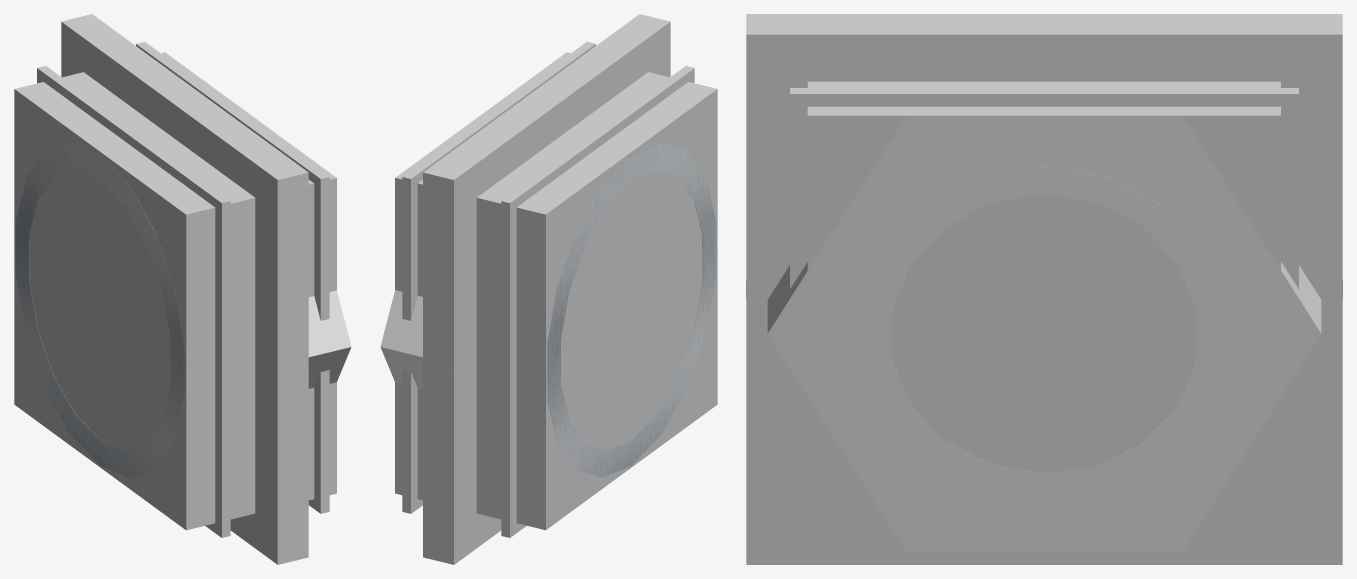
Rendered from rad1_zagl_1s2.FBX.
3 renders of one model, left to right at view 1: azimuth 30°, elevation 25°; view 2: azimuth 150°, elevation 25°; view 3: azimuth 270°, elevation 25°, orthographic. The views are drawn at different scales.
Visible parts, largest first — view 1: rad1_zagl_1/2_COL003, rad1_zagl_1/2, size_1_L_est_003, size_1_R_est_002; view 2: rad1_zagl_1/2_COL003, rad1_zagl_1/2, size_1_L_est_003, size_1_R_est_002; view 3: rad1_zagl_1/2_COL003, rad1_zagl_1/2, size_1_R_est_002.
Part boxes in pixels (x1=…): rad1_zagl_1/2_COL003: x1=14, y1=14, x2=336, y2=564; rad1_zagl_1/2: x1=15, y1=143, x2=351, y2=477; size_1_L_est_003: x1=37, y1=66, x2=230, y2=537; size_1_R_est_002: x1=136, y1=41, x2=329, y2=513; rad1_zagl_1/2_COL003: x1=395, y1=14, x2=717, y2=564; rad1_zagl_1/2: x1=380, y1=143, x2=716, y2=477; size_1_L_est_003: x1=501, y1=66, x2=694, y2=537; size_1_R_est_002: x1=402, y1=41, x2=595, y2=513; rad1_zagl_1/2_COL003: x1=746, y1=14, x2=1342, y2=564; rad1_zagl_1/2: x1=746, y1=116, x2=1342, y2=551; size_1_R_est_002: x1=790, y1=88, x2=1298, y2=555.
Size of the model in its own units: 0.017 by 0.0414 by 0.0422.
3 materials, 2 textured.
